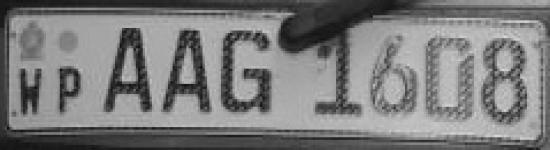0: (422, 30, 477, 124)
1: (313, 22, 367, 121)
6: (368, 29, 421, 126)
8: (480, 32, 534, 128)
A: (156, 21, 216, 125), (104, 20, 155, 120)
G: (214, 16, 282, 125)
P: (53, 64, 92, 116)
W: (15, 62, 49, 119)
